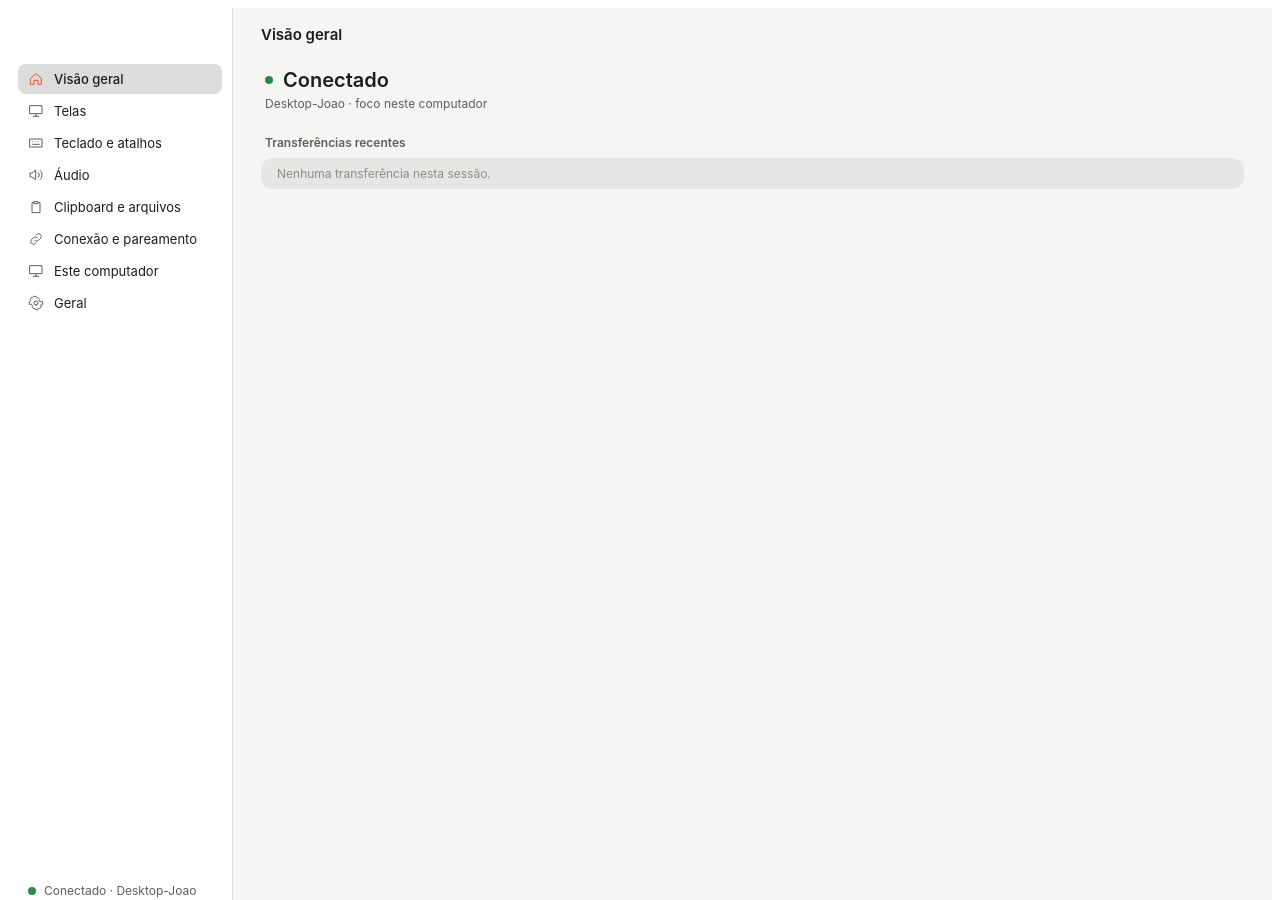
it: janela principal no Windows: nenhuma seção nomeia os lados por Mac/PC
This screenshot has width=1280, height=900.
Expected: the heading "Visão geral" is shown, x1=261 y1=24 x2=342 y2=44
Click the button "Áudio": [120, 175] box x1=18 y1=160 x2=222 y2=190
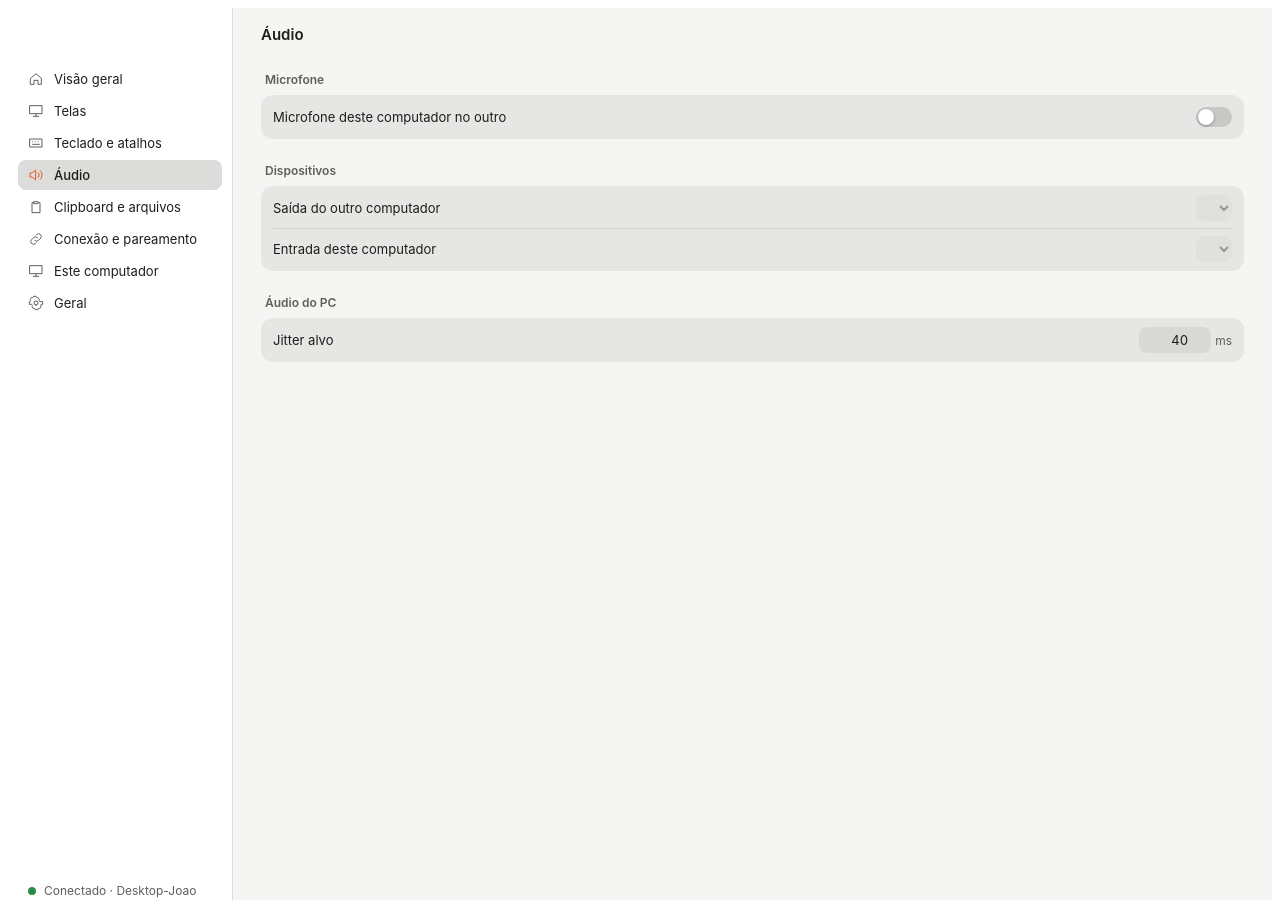
Now the heading "Áudio" is shown, box x1=261 y1=24 x2=304 y2=44
Click the button "Clipboard e arquivos": [120, 207] box x1=18 y1=192 x2=222 y2=222
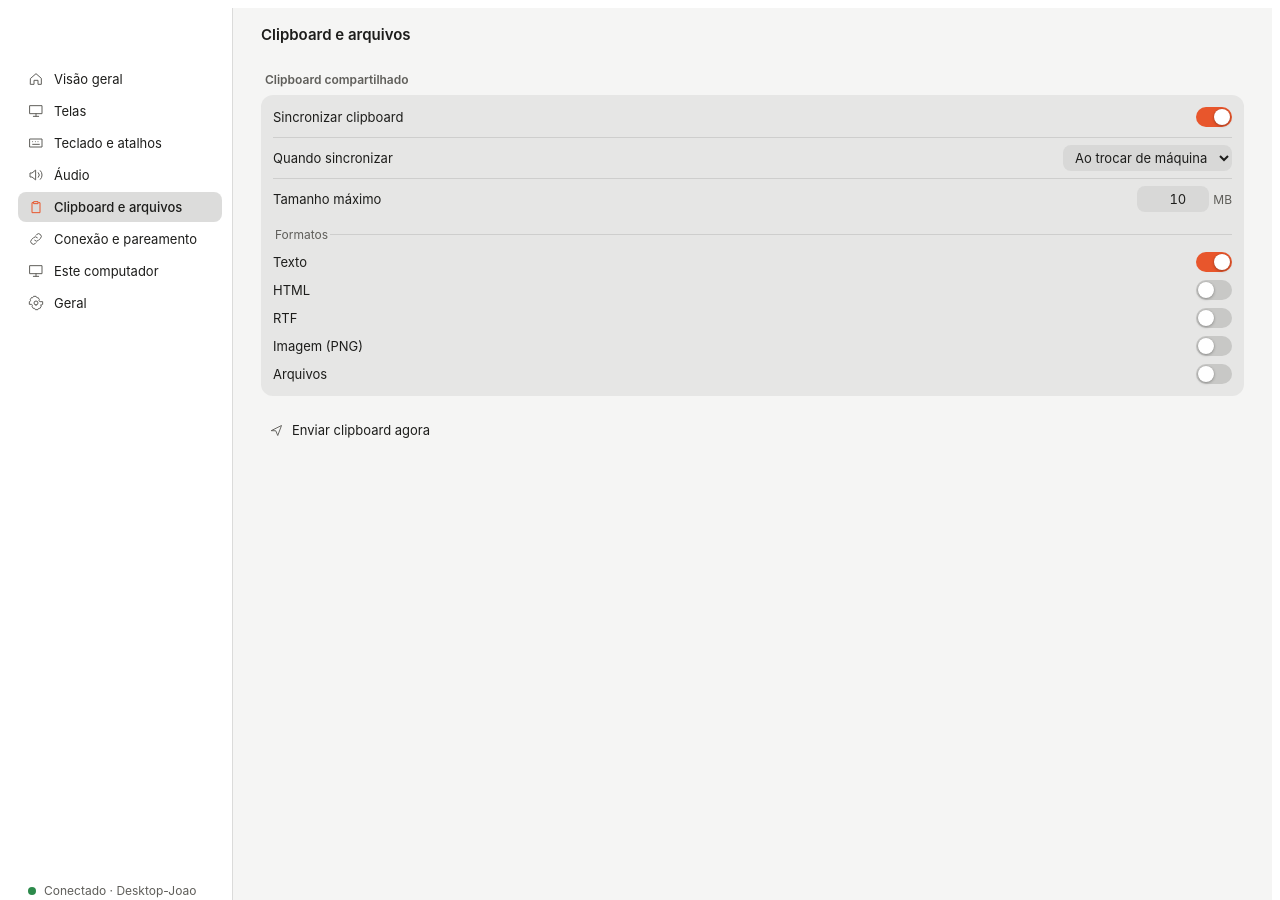
Now the heading "Clipboard e arquivos" is shown, box x1=261 y1=24 x2=410 y2=44
Click the button "Conexão e pareamento": [120, 239] box x1=18 y1=224 x2=222 y2=254
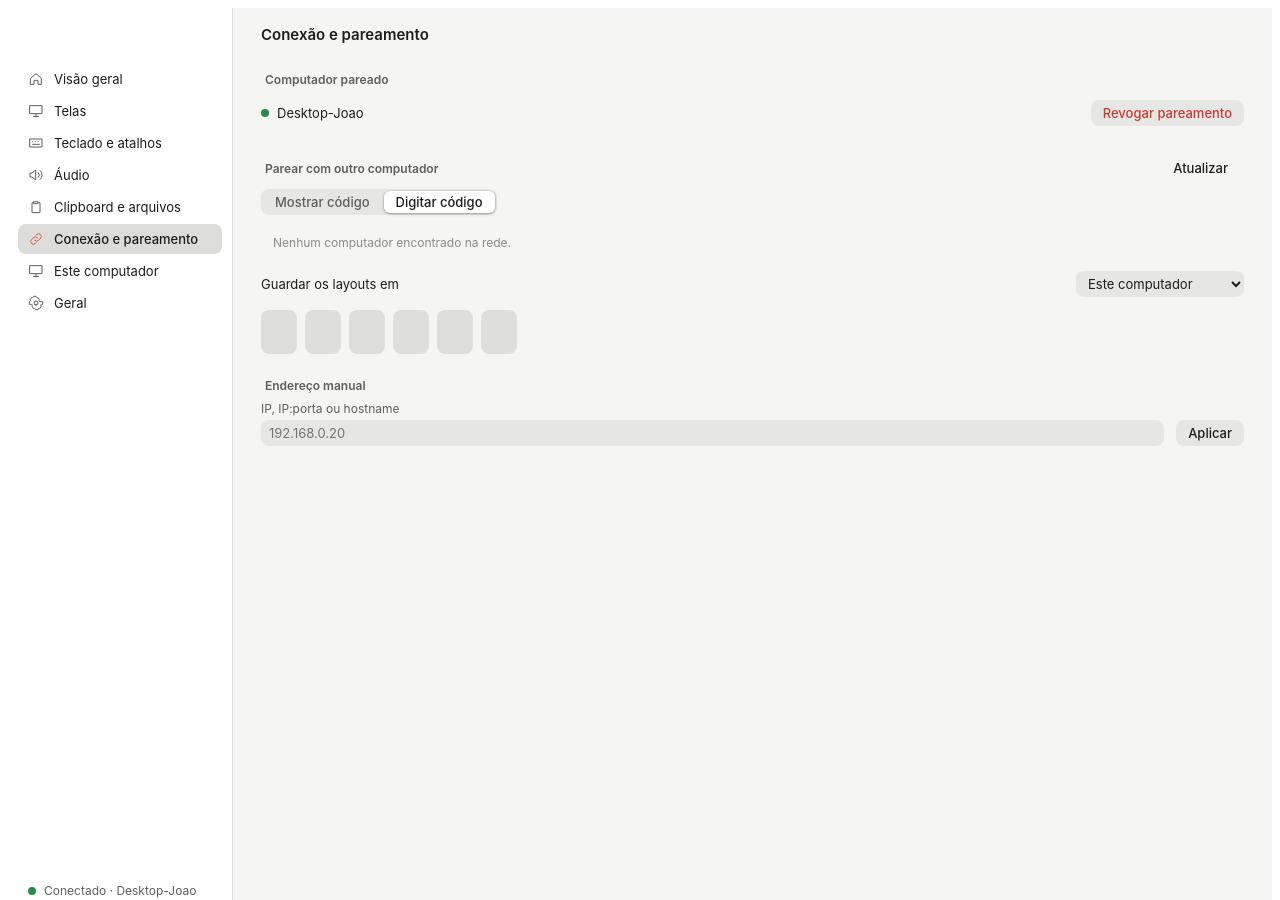
Now the heading "Conexão e pareamento" is shown, box x1=261 y1=24 x2=429 y2=44
Click the button "Este computador": [120, 271] box x1=18 y1=256 x2=222 y2=286
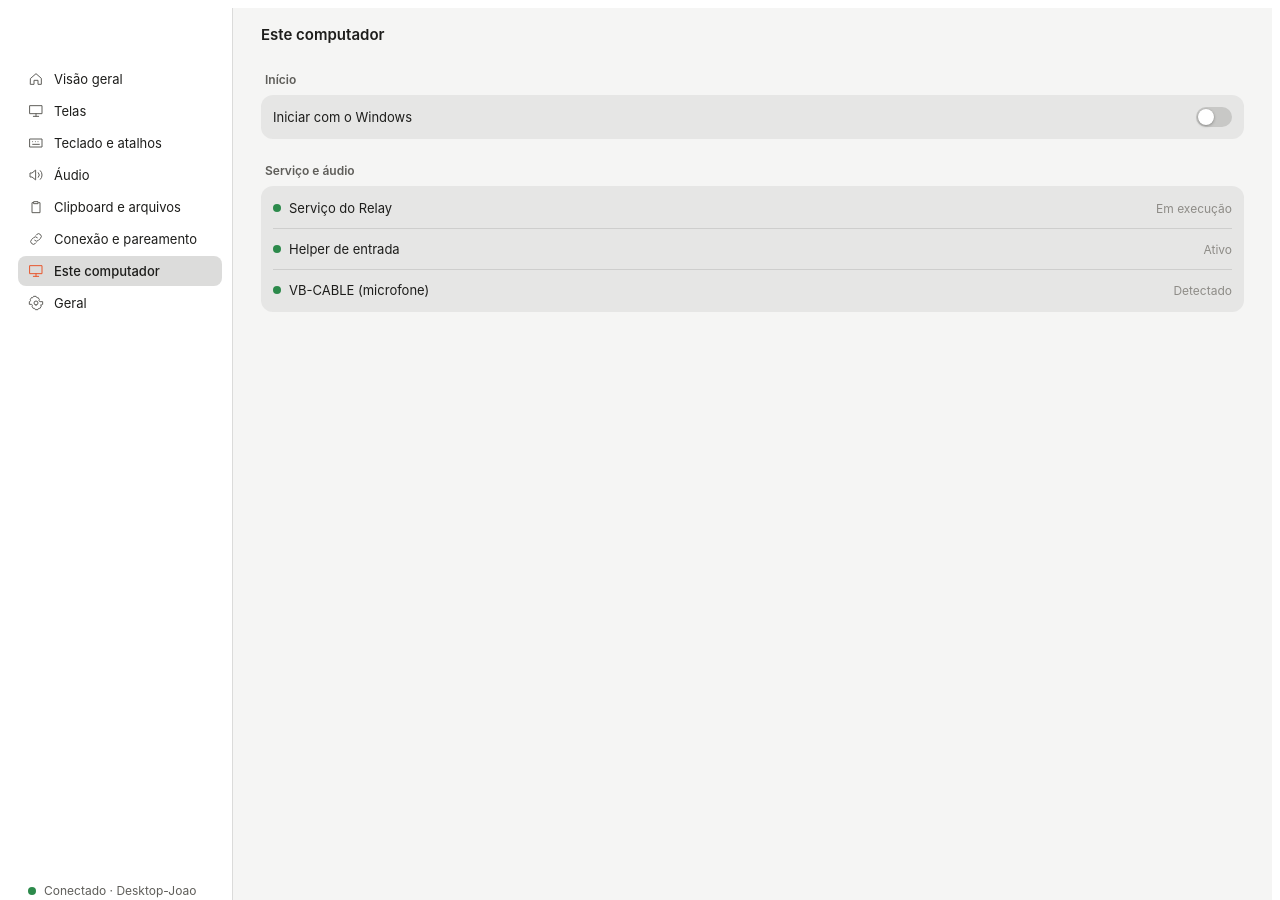
Now the heading "Este computador" is shown, box x1=261 y1=24 x2=384 y2=44
Click the button "Geral": [120, 303] box x1=18 y1=288 x2=222 y2=318
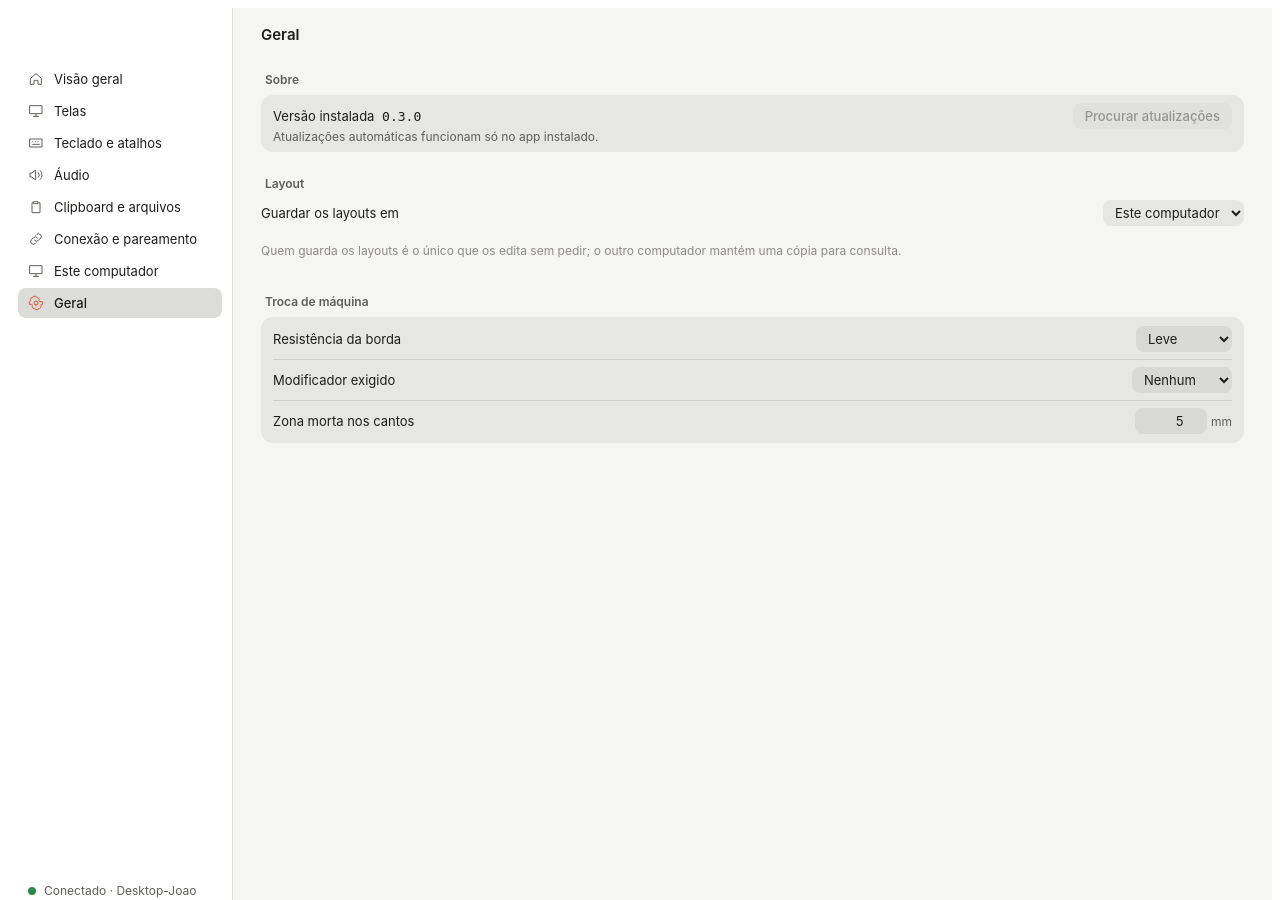
Now the heading "Geral" is shown, box x1=261 y1=24 x2=300 y2=44
